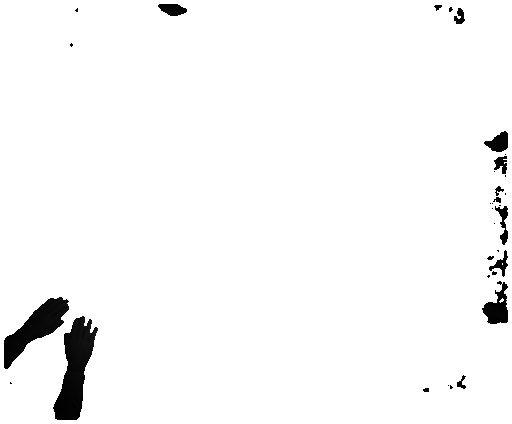hand: (22, 296, 72, 345), (65, 315, 103, 371)
